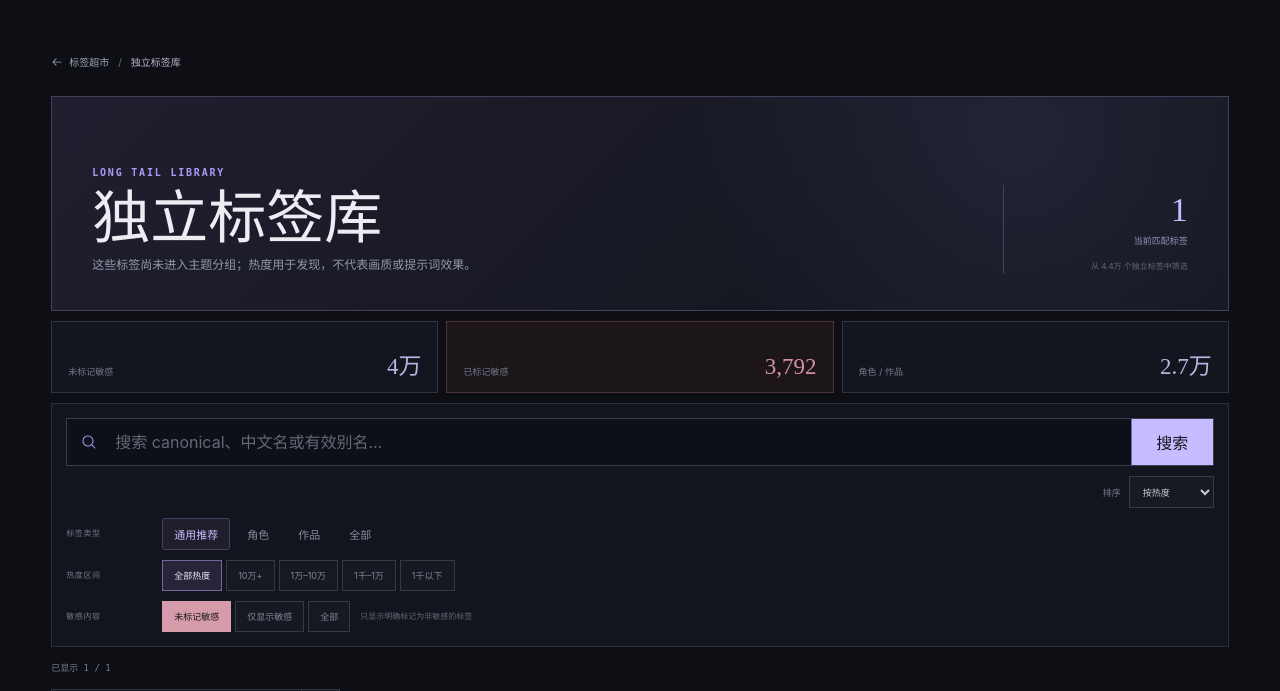
browses ungrouped tags and can show only NSFW entries
The width and height of the screenshot is (1280, 691).
Expected: the heading "独立标签库" is shown, [92,186,382,251]
What coordinates should you click on to do the following:
click the button "仅显示敏感"
I would click on:
 (270, 616)
Its box is [235,601,304,632].
(page scrolled)
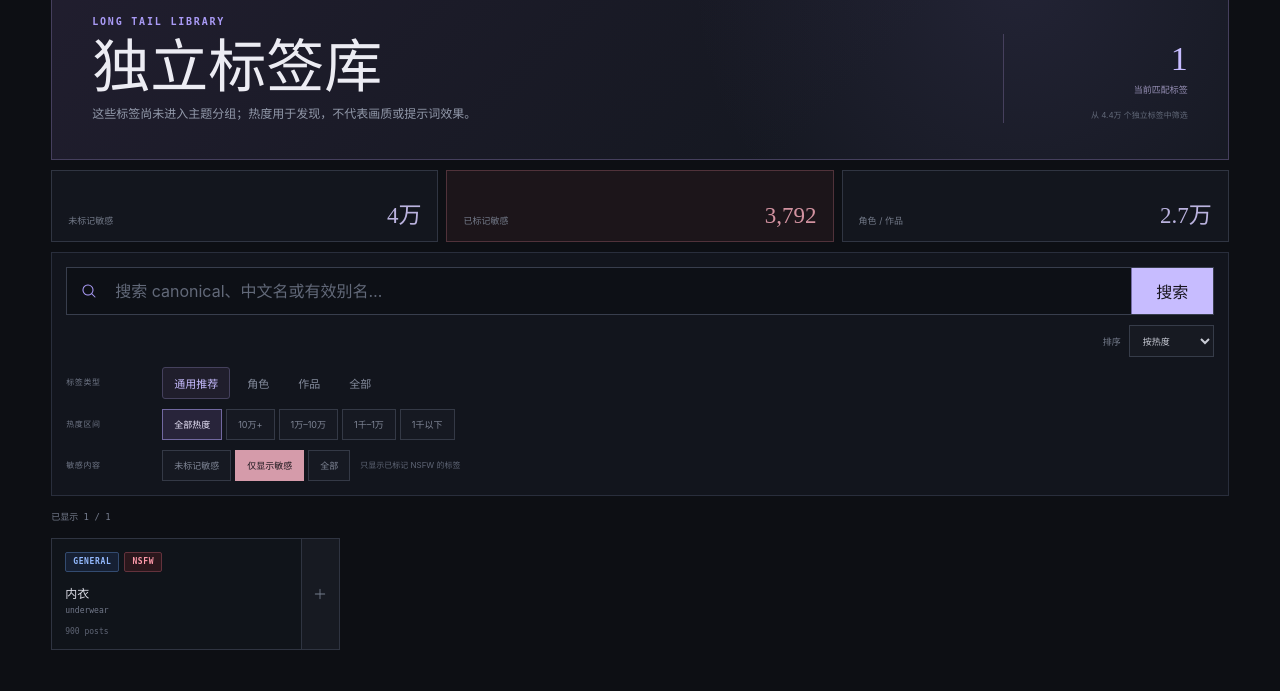
Now the text "内衣" is shown, box [65,586,89,601]
What coordinates should you click on to do the following:
click the button named "选择 内衣"
I would click on:
 (320, 594)
Its box is [301,539,339,649].
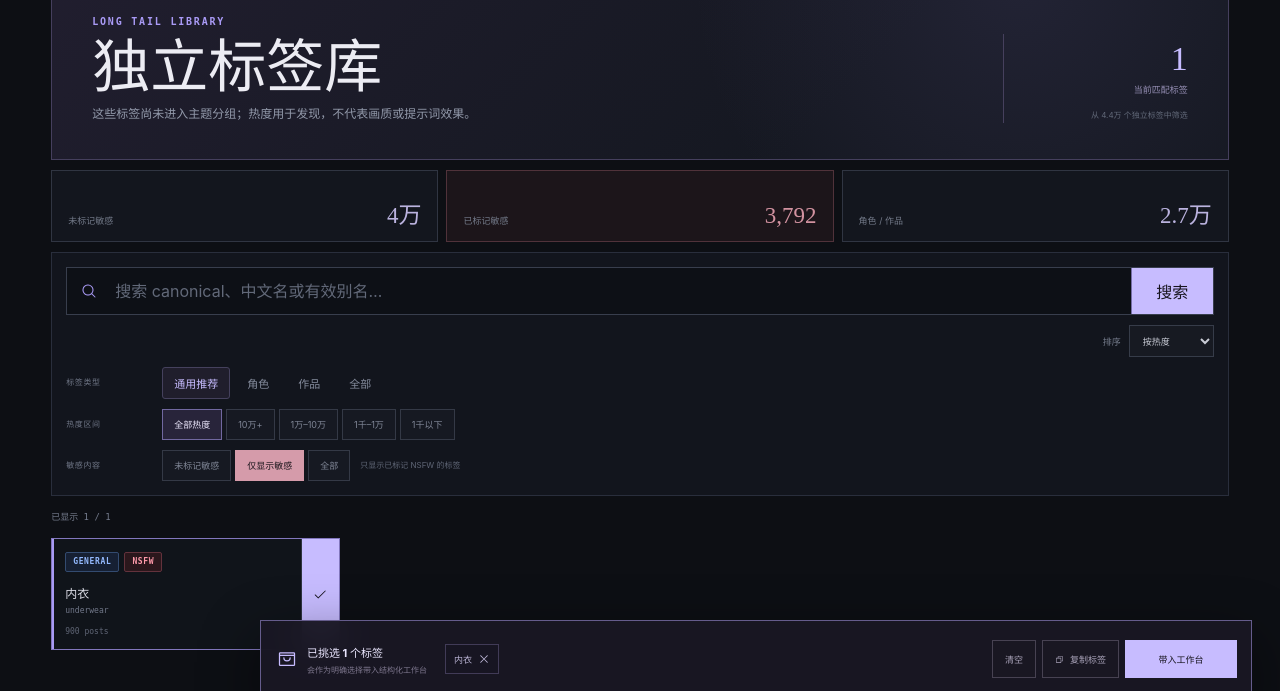
Now the text "已挑选 1 个标签" is shown, box [307,646,383,660]
